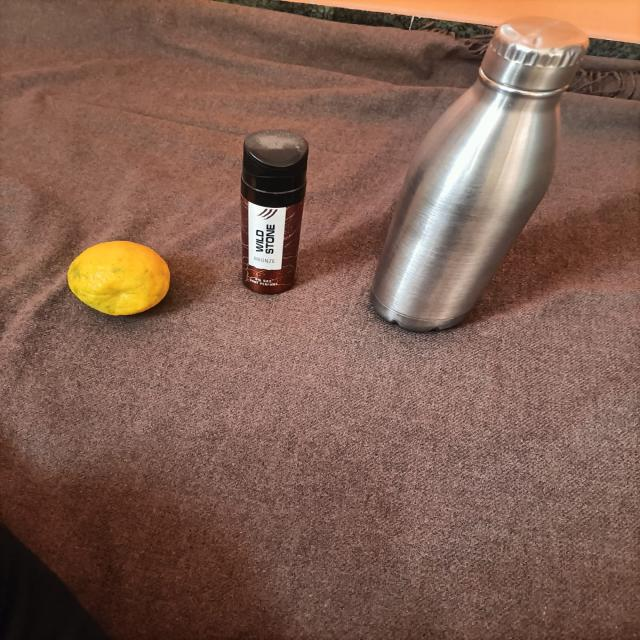bottle: (349, 0, 588, 355)
orange: (52, 234, 184, 326)
spray: (228, 123, 326, 313)
